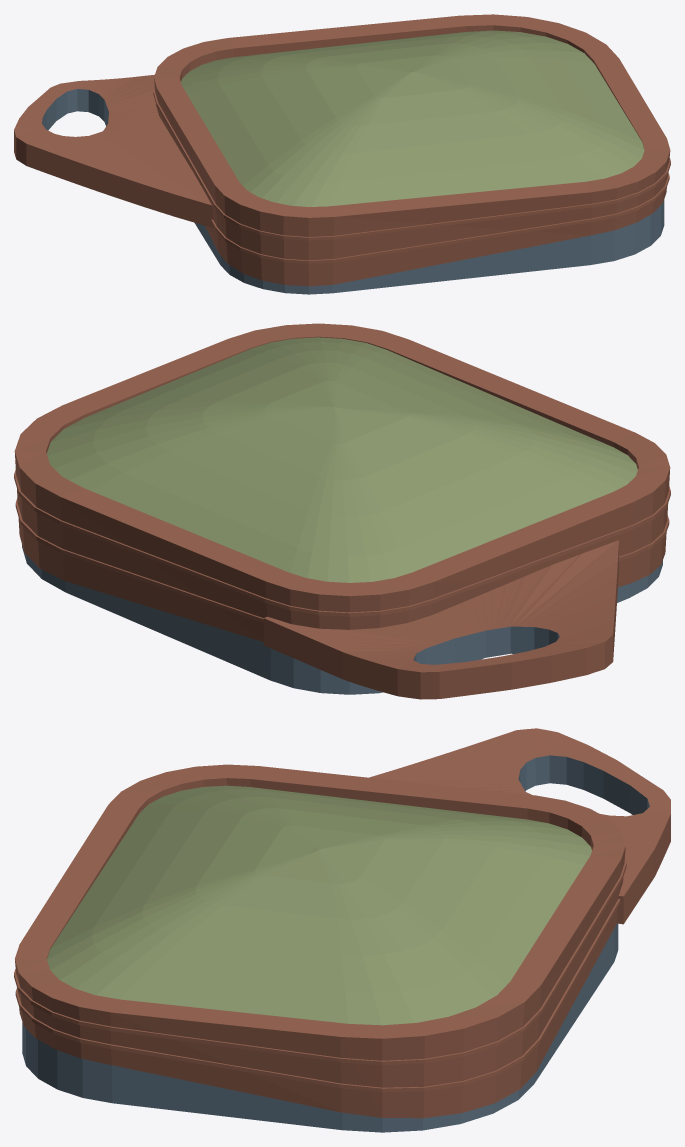
3 renders of one model, top to bottom at view 1: azimuth 30°, elevation 25°; view 2: azimuth 150°, elevation 25°; view 3: azimuth 270°, elevation 25°, orthographic. The views are drawn at different scales.
Visible parts, largest first — view 1: barclays-center; view 2: barclays-center; view 3: barclays-center.
Part boxes in pixels (x1=…): barclays-center: x1=14, y1=14, x2=670, y2=294; barclays-center: x1=14, y1=323, x2=670, y2=699; barclays-center: x1=14, y1=728, x2=670, y2=1132.
Size of the model in its own units: 186 by 41 by 160.
